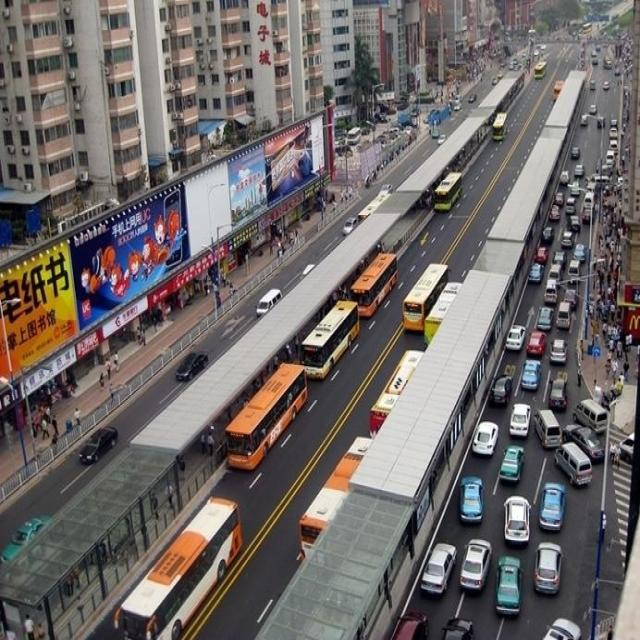Carro Azul Escuro: (532, 485, 567, 537), (458, 475, 489, 521), (518, 359, 542, 396)
Carro Branco: (499, 495, 532, 550), (470, 425, 503, 461), (511, 398, 528, 438), (508, 320, 524, 357)
Carro Prata: (421, 536, 462, 594), (532, 539, 569, 602), (554, 435, 593, 491), (458, 540, 491, 593), (535, 402, 562, 454), (577, 398, 613, 437), (540, 616, 586, 640), (550, 338, 568, 368)
Carro Preto: (73, 425, 121, 469), (571, 416, 607, 464), (173, 349, 213, 391), (445, 611, 481, 640), (547, 375, 569, 416), (491, 372, 514, 408)
Carro Verde: (0, 506, 58, 568), (494, 551, 522, 621), (498, 441, 527, 489)
Carro Vermelho: (386, 609, 432, 640), (525, 329, 546, 363)
Onibus: (116, 496, 242, 640), (296, 439, 376, 555), (228, 364, 312, 474), (367, 352, 425, 438), (295, 300, 362, 373), (347, 249, 408, 320), (404, 258, 451, 336), (431, 170, 465, 210), (493, 113, 510, 140)
